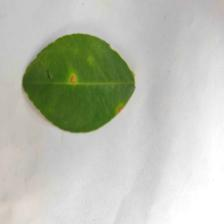greening: (84, 45, 125, 97)
